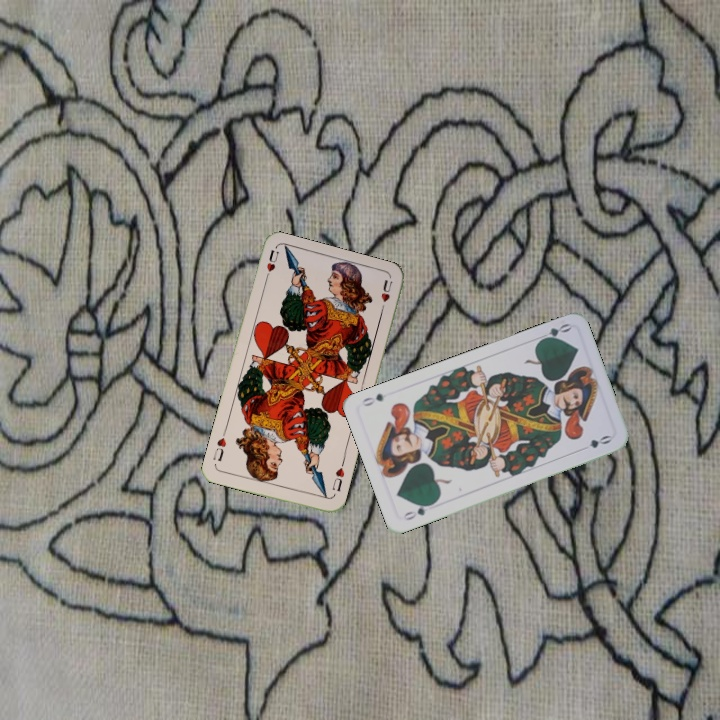GO: (533, 319, 573, 345), (399, 499, 437, 523)
HU: (261, 246, 281, 285), (328, 459, 347, 494)
